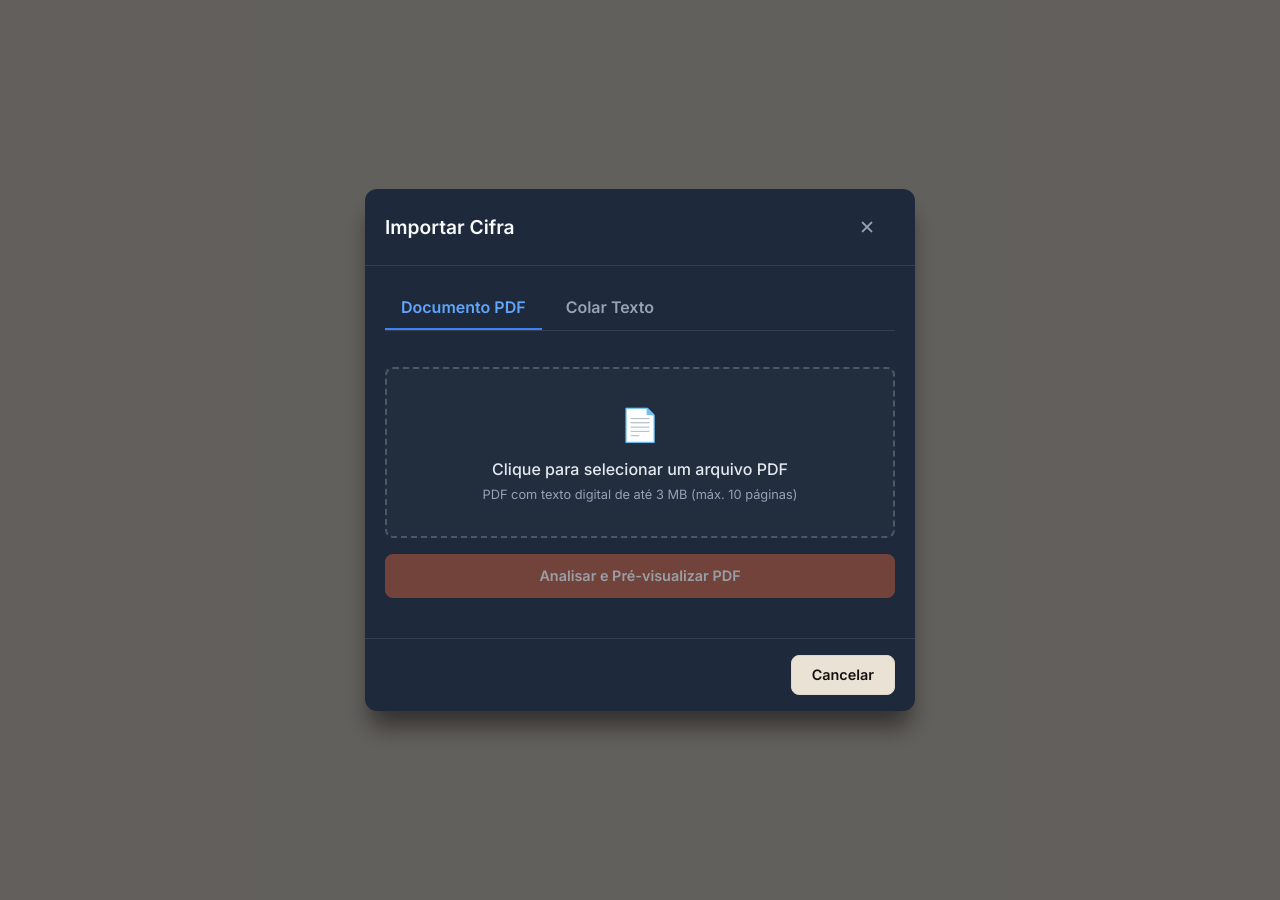
Test case: SmartChordImportModal Component › renders input tabs and switches between PDF and Text modes
Expected: the heading "Importar Cifra" is shown, top-left (385, 212), bottom-right (515, 241)
Expected: the button "Documento PDF" is shown, top-left (385, 286), bottom-right (542, 330)
Click the button "Colar Texto" at (610, 308), box top-left (550, 286), bottom-right (670, 330)
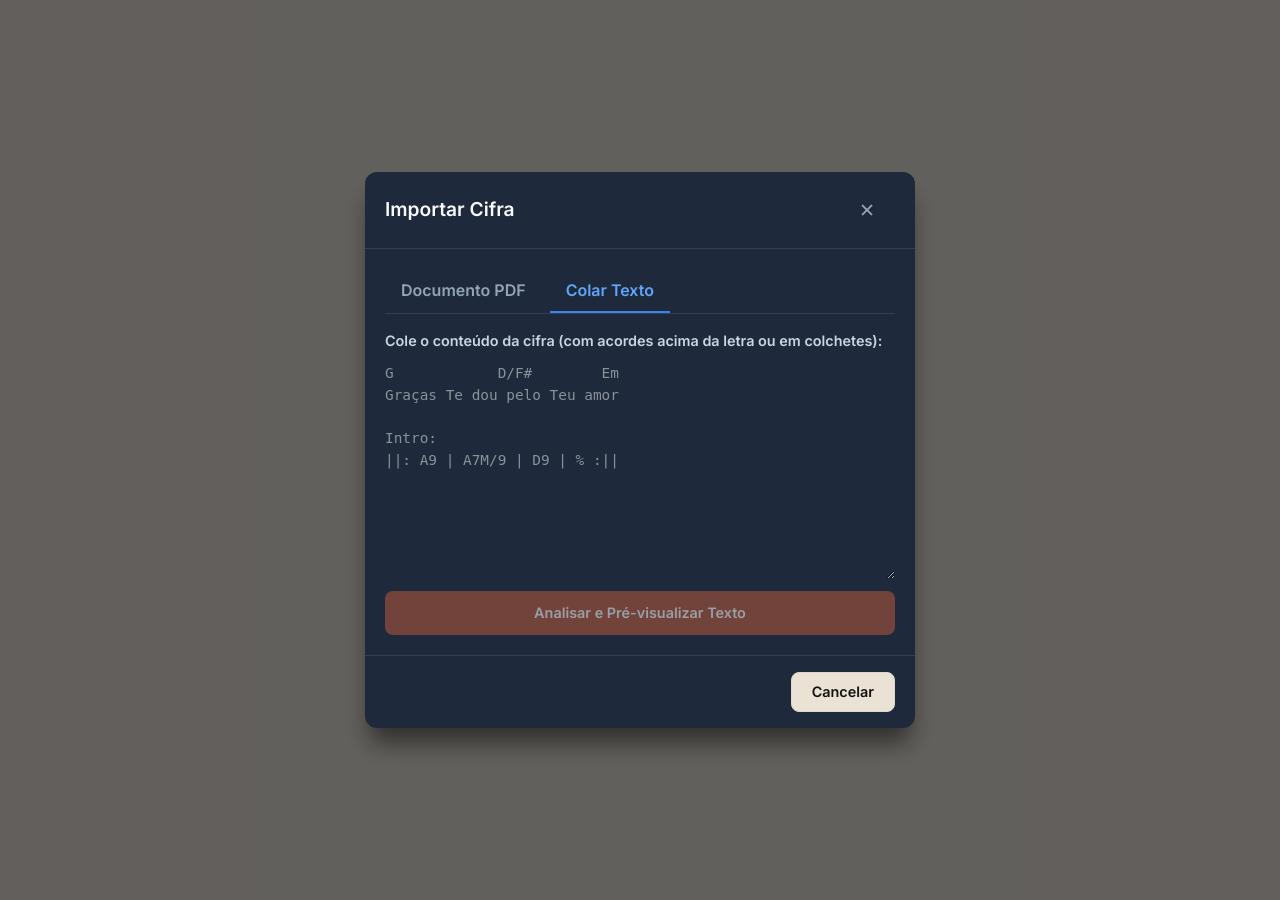
Expected: the text box with placeholder "Graças Te dou pelo Teu amor" is shown, top-left (385, 363), bottom-right (895, 579)
Expected: the button "Analisar e Pré-visualizar Texto" is shown, top-left (385, 591), bottom-right (895, 635)
